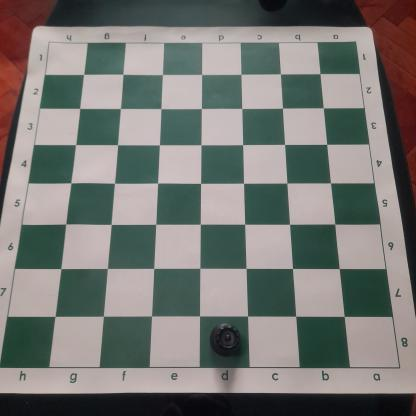black-queen: (209, 321, 242, 359)
